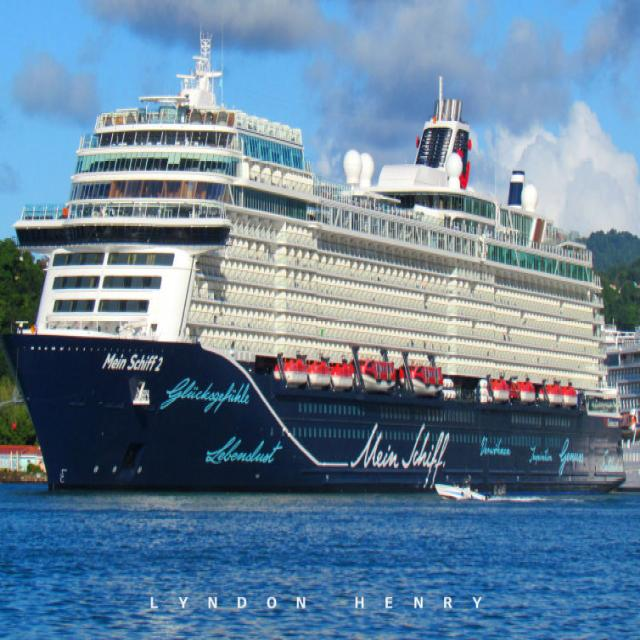cruises: (1, 35, 637, 508)
